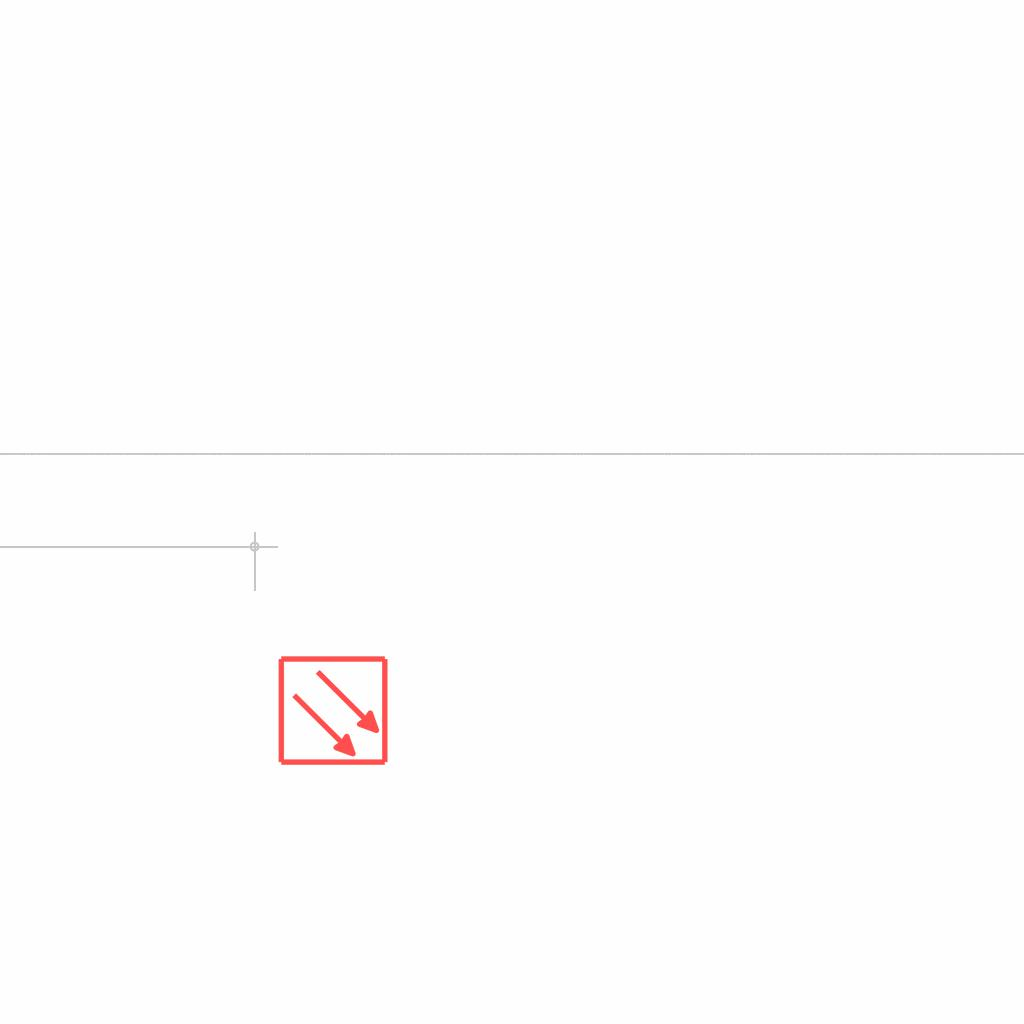RMO_Rauchmelder_optischer: (277, 654, 390, 767)
